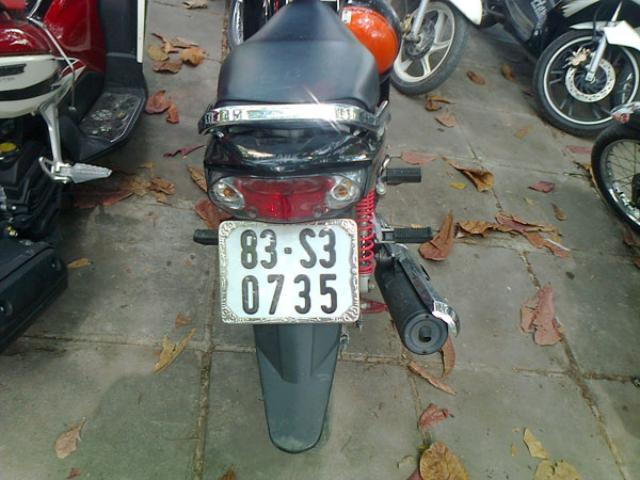plate: (224, 222, 356, 320)
